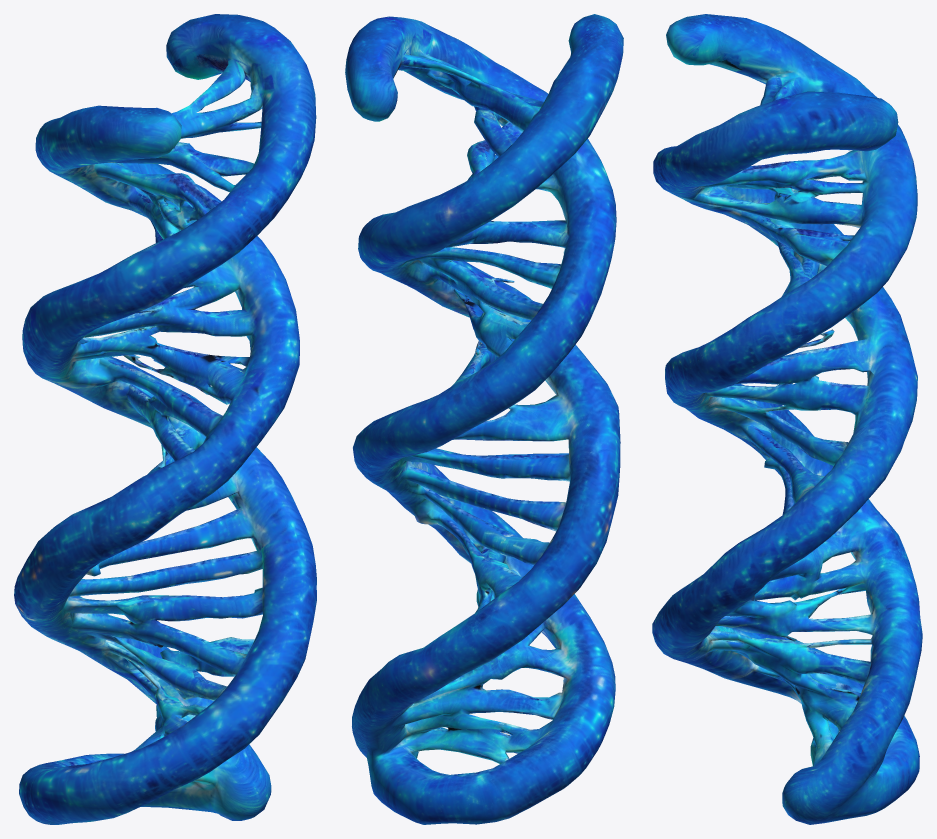
The model's file is A_futuristic_3D_DNA_d_0721114842_texture.fbx.
The picture shows the model from 3 angles, left to right: view 1: azimuth 30°, elevation 25°; view 2: azimuth 150°, elevation 25°; view 3: azimuth 270°, elevation 25°; orthographic projection. The views are drawn at different scales.
Visible parts, largest first — view 1: Mesh_0; view 2: Mesh_0; view 3: Mesh_0.
Boxes of the visible parts, x1,y1,x2,y2 form: Mesh_0: [14, 14, 316, 824]; Mesh_0: [345, 14, 623, 824]; Mesh_0: [652, 14, 922, 824].
Bounding box in the file's own units: 68.44 × 200 × 66.53.
Materials: 1 (1 with a texture image).
